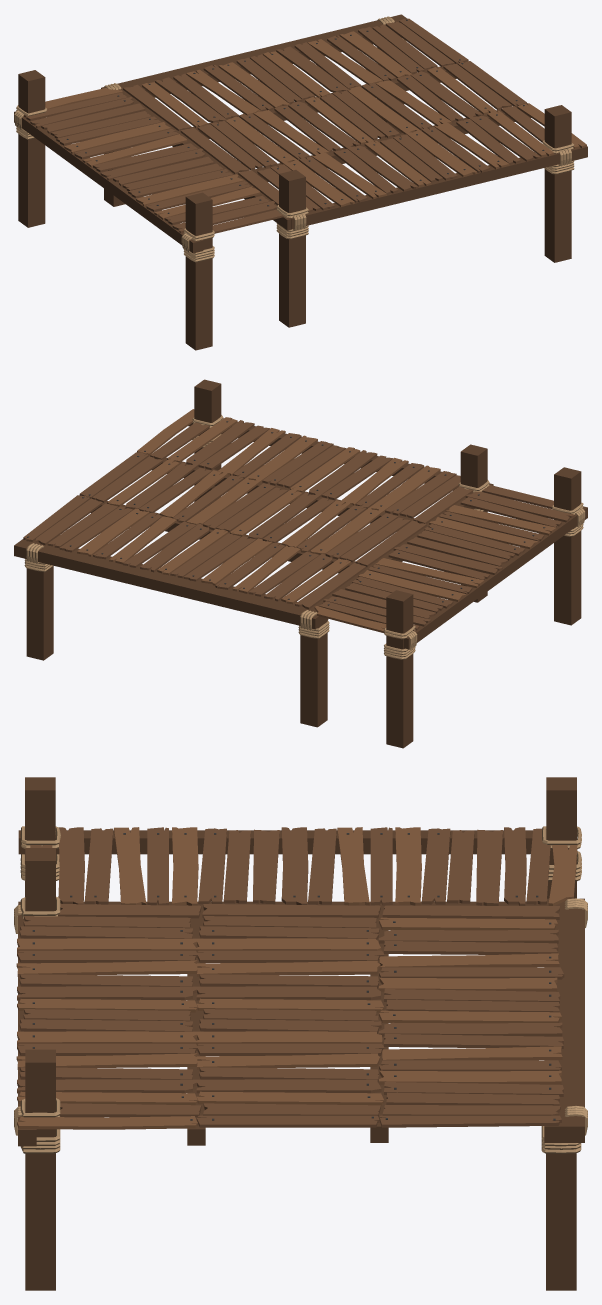
The model's file is HouseFloor_01.fbx.
3 renders of one model, top to bottom at view 1: azimuth 30°, elevation 25°; view 2: azimuth 150°, elevation 25°; view 3: azimuth 270°, elevation 25°, orthographic. The views are drawn at different scales.
Visible parts, largest first — view 1: HouseFloor_01_LOD0; view 2: HouseFloor_01_LOD0; view 3: HouseFloor_01_LOD0.
Part boxes in pixels (x1=…): HouseFloor_01_LOD0: x1=14, y1=14, x2=587, y2=350; HouseFloor_01_LOD0: x1=14, y1=379, x2=587, y2=748; HouseFloor_01_LOD0: x1=14, y1=777, x2=587, y2=1290.
Size of what is drawn, in the model's own units: 5.79 by 2.04 by 4.67.
